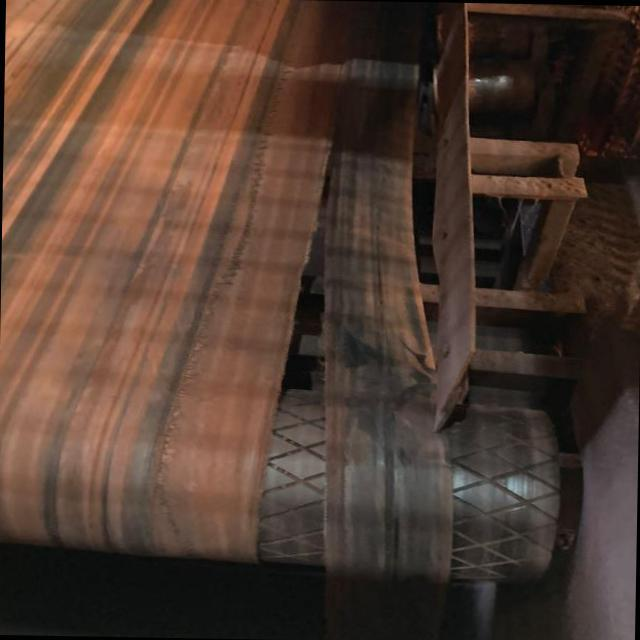Tear: (244, 103, 356, 572)
